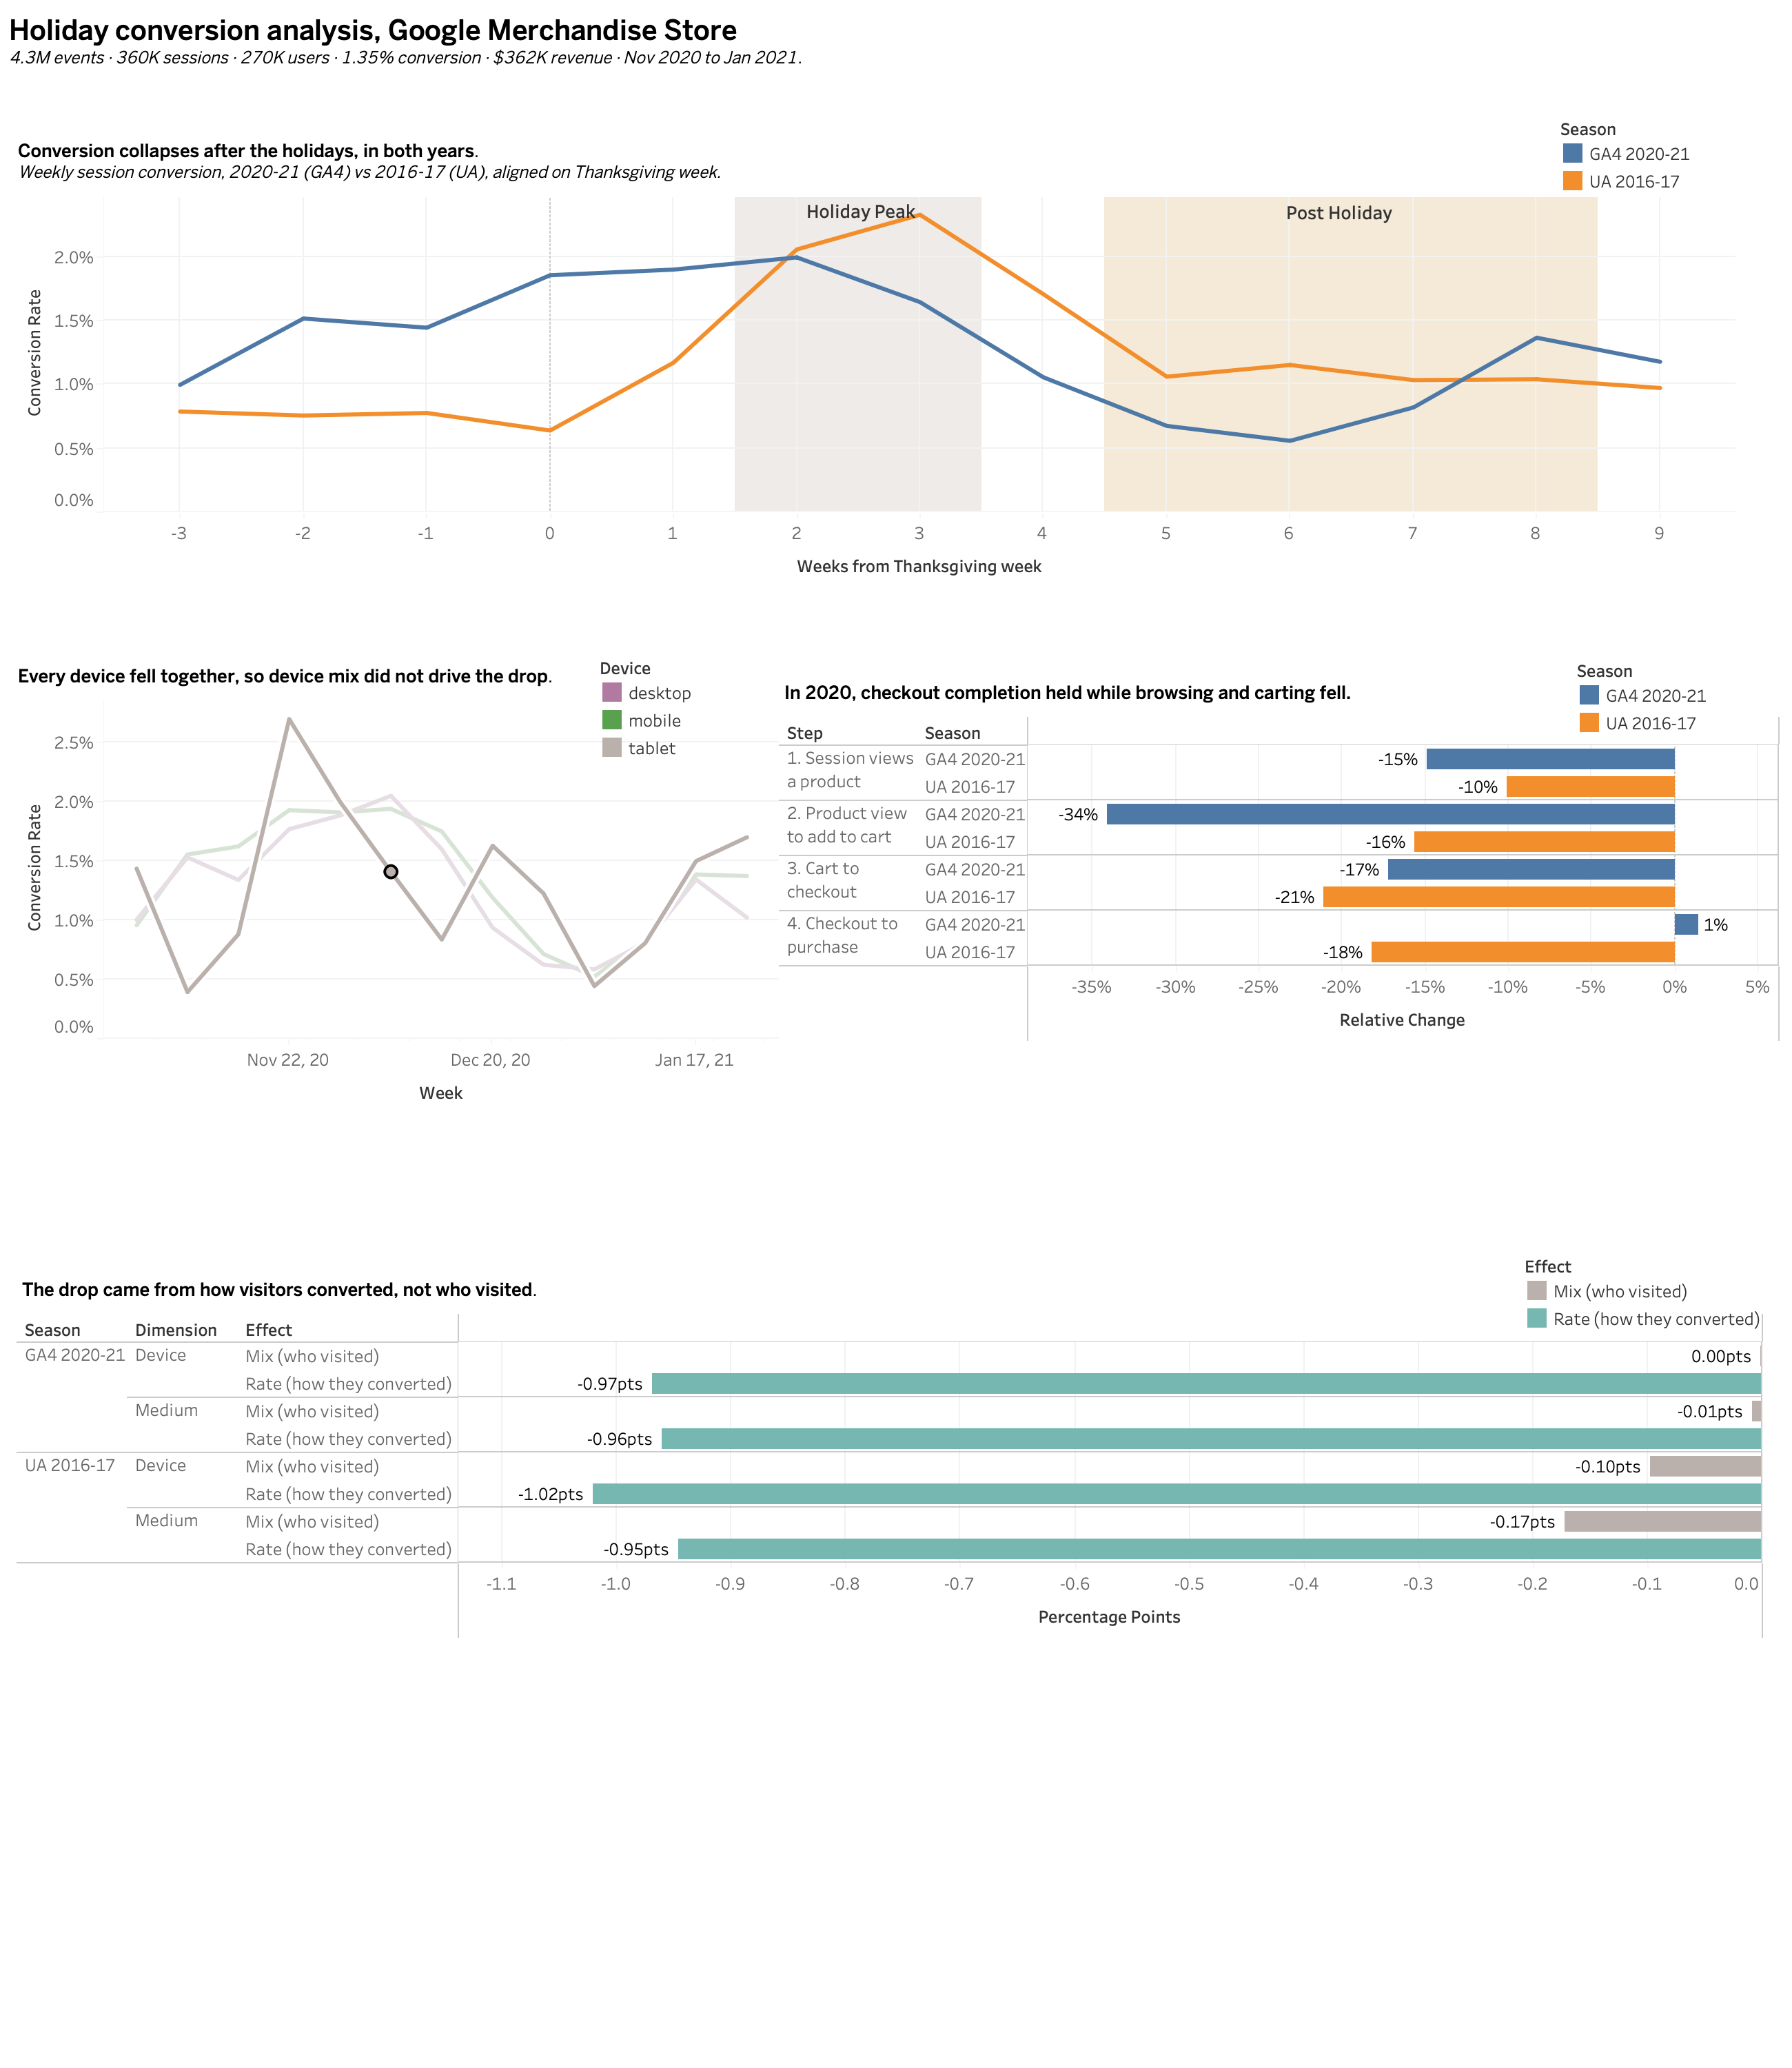

This screenshot's page, from the dashboard's own definition file:
{"tool":"tableau","page":{"name":"Dashboard 1","canvas":[1300,1500],"ordinal":0},"visuals":[{"type":"text","box":[4,6.3,763,48.9]},{"type":"legend","title":"Hero YoY","param":"[federated.0bnj3640y8zrl414guig61lmwamp].[none:season:nk]","box":[1131,83,112,59]},{"type":"worksheet","title":"Hero YoY","mark":"Automatic","rows":["conversion_rate"],"cols":["season_week"],"box":[9,95,1250,331]},{"type":"legend","title":"Device","param":"[federated.1ad3mec02u78am17jp8pm0ofcreh].[none:device:nk]","box":[434,474,140,87]},{"type":"worksheet","title":"Device","mark":"Automatic","rows":["conversion_rate"],"cols":["week_start"],"box":[9,476,556,332]},{"type":"legend","title":"Funnel ","param":"[federated.10nlkfj1ryn7dx15rswj11rhv2lw].[none:season:nk]","box":[1143,476,140,75]},{"type":"worksheet","title":"Funnel ","mark":"Automatic","rows":["step","season"],"cols":["relative_change"],"box":[565,489,726,290]},{"type":"legend","title":"Mix vs Rate","param":"[federated.0h76z8s18z2xp313vpuzb0uz8g10].[none:effect:nk]","box":[1105,908,177,91]},{"type":"worksheet","title":"Mix vs Rate","mark":"Automatic","rows":["season","dimension","effect"],"cols":["points"],"box":[12,921,1267,356]}]}

Visuals, with their boxes in screenshot pixels (x1, y1, x2, y2), scaled from the page's 1300x1500 canvas onto the 1792x2068 screenshot:
text: select_region(6, 9, 1057, 76)
"Hero YoY" legend: select_region(1559, 114, 1713, 196)
"Hero YoY" worksheet: select_region(12, 131, 1735, 587)
"Device" legend: select_region(598, 653, 791, 773)
"Device" worksheet: select_region(12, 656, 779, 1114)
"Funnel " legend: select_region(1576, 656, 1769, 760)
"Funnel " worksheet: select_region(779, 674, 1780, 1074)
"Mix vs Rate" legend: select_region(1523, 1252, 1767, 1377)
"Mix vs Rate" worksheet: select_region(17, 1270, 1763, 1761)
